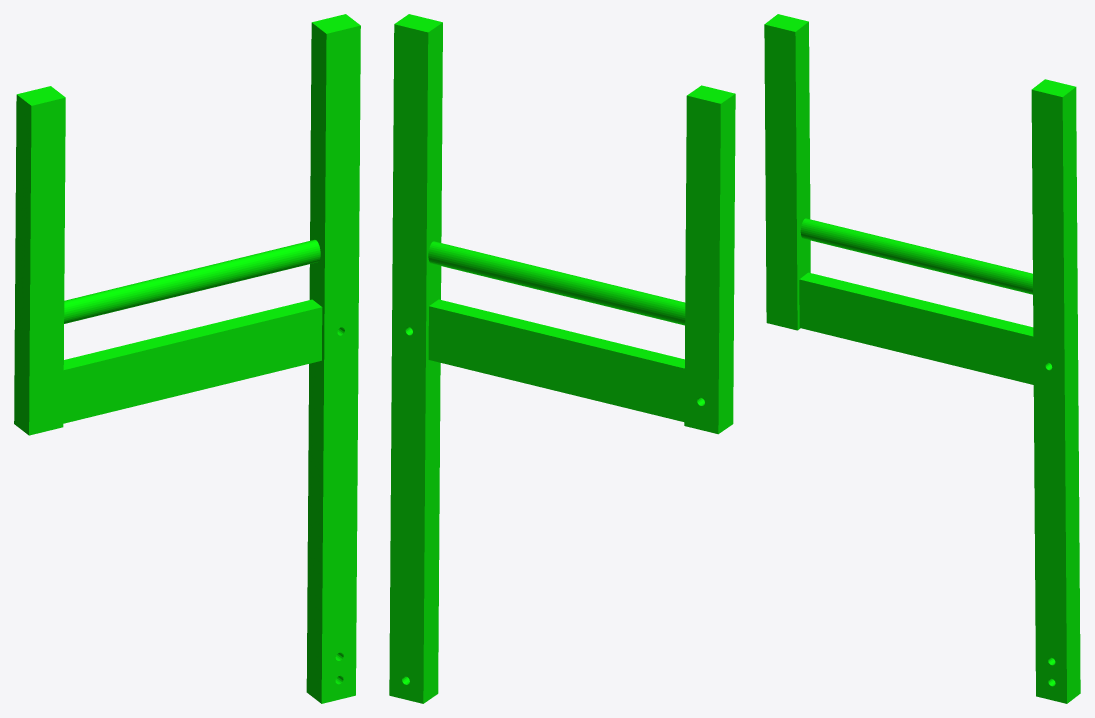
The model's file is sida_correct.obj.
The picture shows the model from 3 angles, left to right: view 1: azimuth 30°, elevation 25°; view 2: azimuth 150°, elevation 25°; view 3: azimuth 330°, elevation 25°; orthographic projection. The views are drawn at different scales.
Size of the model in its own units: 288 by 563 by 30.
